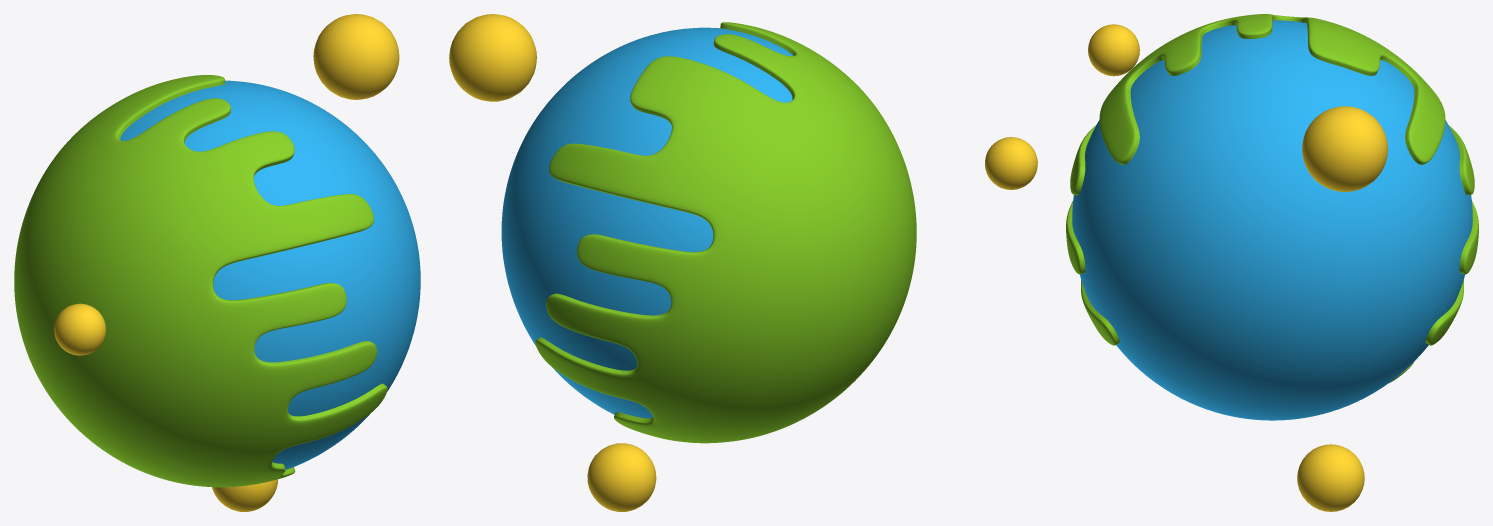
File: planet-6.glb
3 renders of one model, left to right at view 1: azimuth 30°, elevation 25°; view 2: azimuth 150°, elevation 25°; view 3: azimuth 270°, elevation 25°, orthographic. The views are drawn at different scales.
Visible parts, largest first — view 1: Roundcube.001, Roundcube, Roundcube.002, Roundcube.004, Roundcube.003; view 2: Roundcube.001, Roundcube, Roundcube.002, Roundcube.003, Roundcube.004; view 3: Roundcube, Roundcube.001, Roundcube.002, Roundcube.003, Roundcube.004.
Part boxes in pixels (bbox=[...]): Roundcube.001: bbox=[14, 75, 387, 487]; Roundcube: bbox=[120, 80, 420, 469]; Roundcube.002: bbox=[313, 14, 399, 99]; Roundcube.004: bbox=[54, 303, 105, 355]; Roundcube.003: bbox=[212, 479, 277, 511]; Roundcube.001: bbox=[535, 22, 916, 443]; Roundcube: bbox=[501, 27, 792, 418]; Roundcube.002: bbox=[449, 14, 536, 101]; Roundcube.003: bbox=[587, 443, 656, 511]; Roundcube.004: bbox=[985, 137, 1037, 189]; Roundcube: bbox=[1072, 20, 1472, 420]; Roundcube.001: bbox=[1066, 14, 1478, 382]; Roundcube.002: bbox=[1302, 106, 1387, 191]; Roundcube.003: bbox=[1297, 444, 1364, 511]; Roundcube.004: bbox=[1088, 24, 1139, 76].
Bounding box in the file's own units: 2.45 × 2.37 × 1.94.
